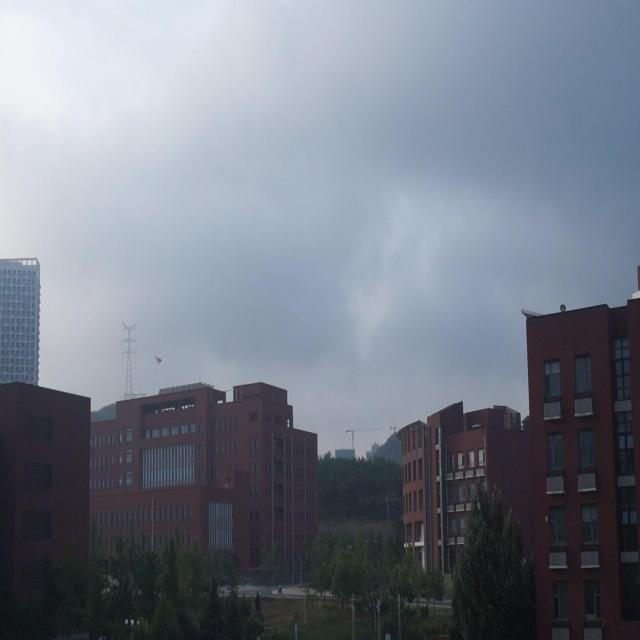UAV: (153, 356, 163, 365)
